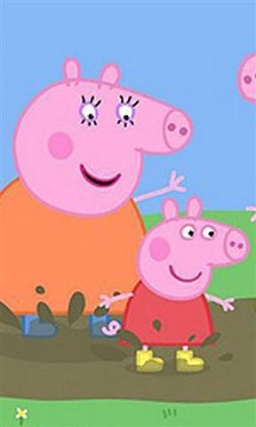Peppa: (95, 194, 256, 376)
